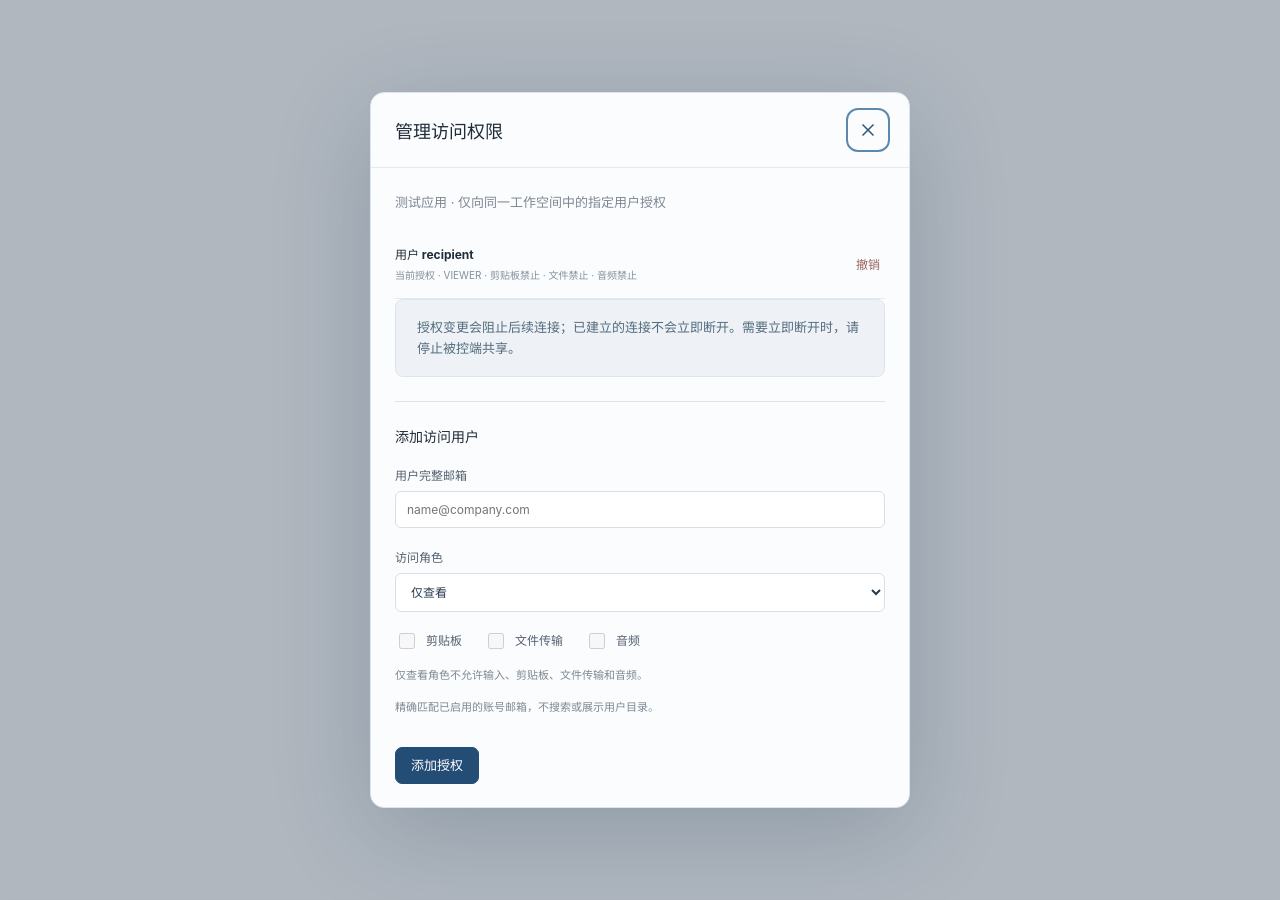
management command dialogs › confirms and revokes the exact entitlement id
This screenshot has width=1280, height=900.
What coordinates should you click on to do the following:
click the button "撤销"
I would click on:
 (868, 265)
Its box is x1=851 y1=252 x2=885 y2=277.
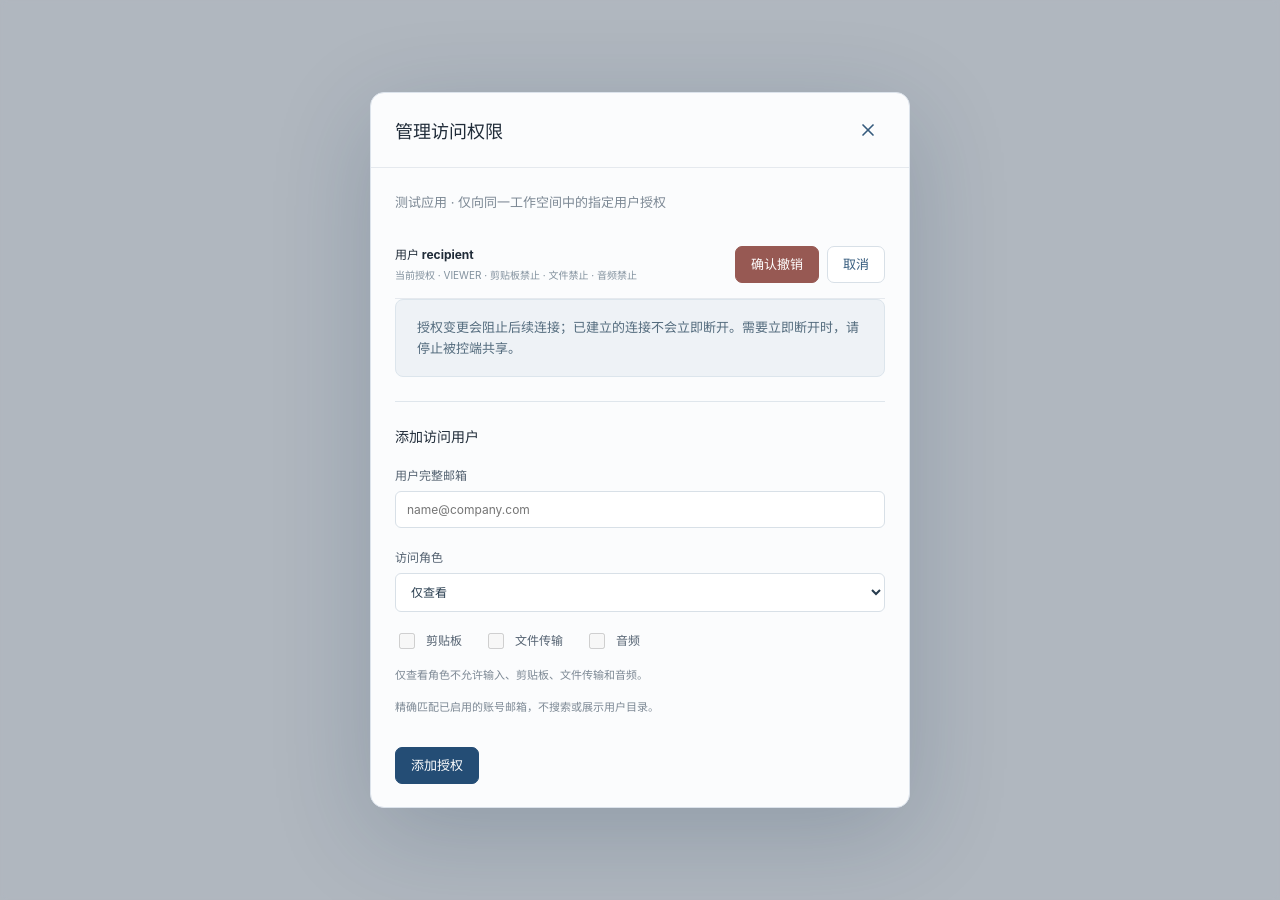
expect the text "授权变更会阻止后续连接；已建立的连接不会立即断开。需要立即断开时，请停止被控端共享。" is shown: met, box x1=395 y1=299 x2=885 y2=377
What coordinates should you click on to do the following:
click the button "确认撤销"
I would click on:
 (777, 265)
Its box is x1=735 y1=246 x2=819 y2=283.
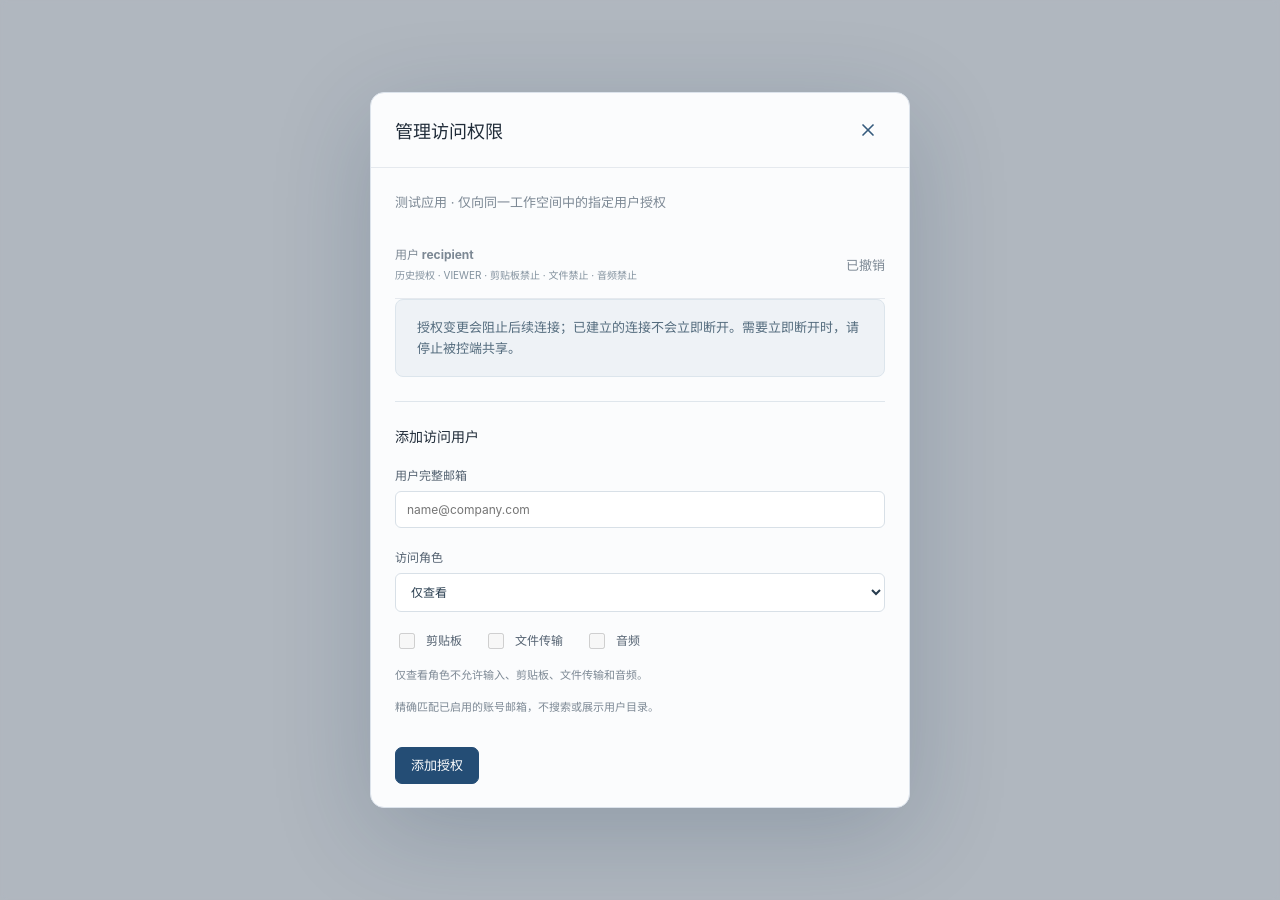
expect the text "已撤销" is shown: met, box x1=846 y1=255 x2=885 y2=274
expect the text "历史授权" is shown: met, box x1=395 y1=269 x2=435 y2=281
expect the text "当前授权" is gone: met
